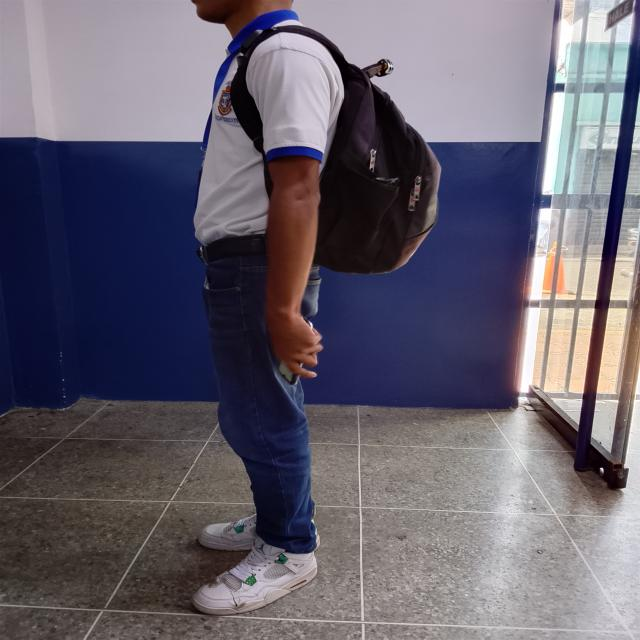pantalon_oscuro: (205, 246, 321, 554)
uniforme_superior: (193, 9, 345, 247)
